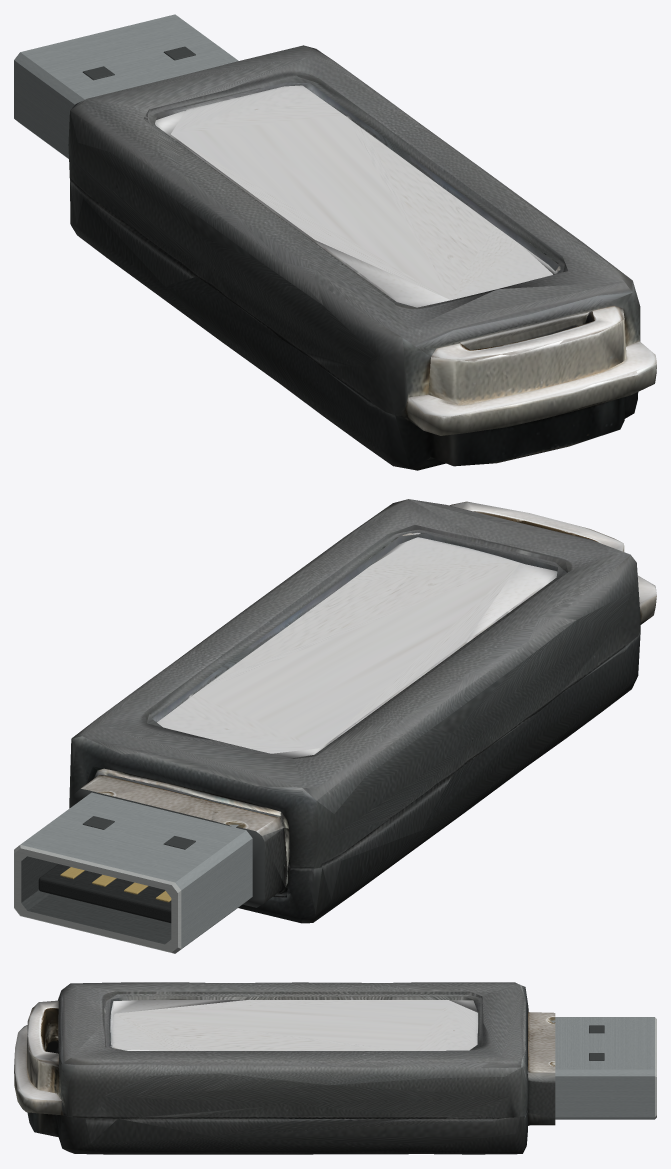
The model's file is Pickup_UsbDrive.fbx.
The picture shows the model from 3 angles, top to bottom: view 1: azimuth 30°, elevation 25°; view 2: azimuth 150°, elevation 25°; view 3: azimuth 270°, elevation 25°; orthographic projection. The views are drawn at different scales.
Parts seen in each view (by area): view 1: Pickup_UsbDrive; view 2: Pickup_UsbDrive; view 3: Pickup_UsbDrive.
Part boxes in pixels (x1,y1,x2,y2): Pickup_UsbDrive: (14,14,656,470); Pickup_UsbDrive: (14,499,656,953); Pickup_UsbDrive: (14,982,656,1154).
Size of the model in its own units: 2.01 by 1.01 by 6.2.
